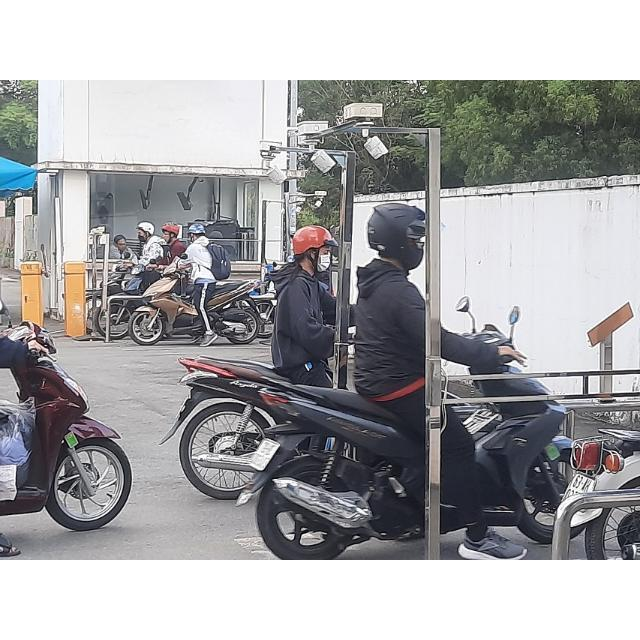Helmet: (364, 200, 430, 270), (292, 226, 336, 276)
